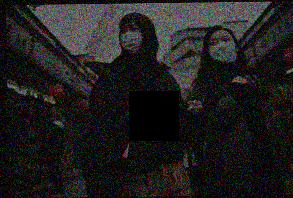with_mask: (206, 33, 237, 63), (119, 22, 144, 54)
